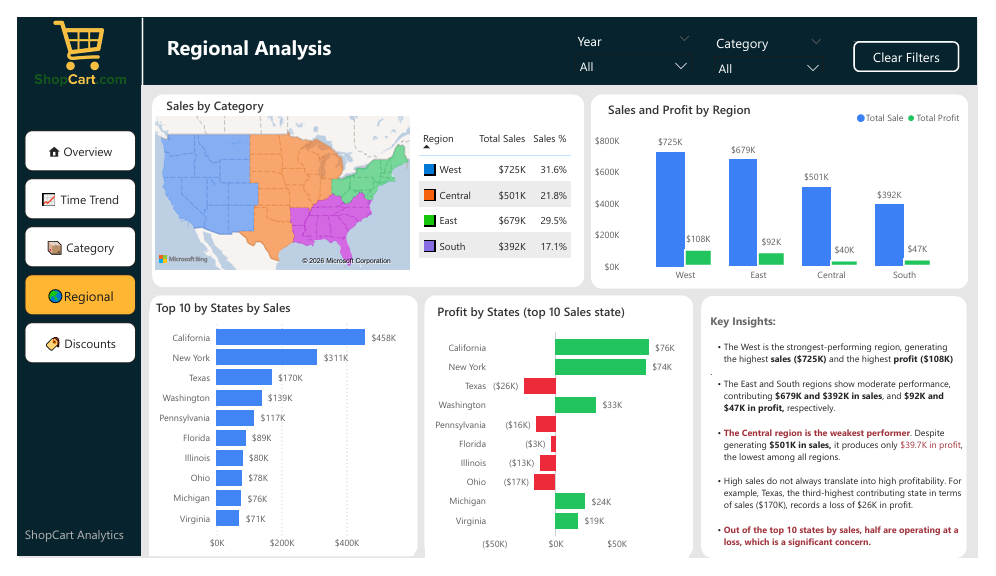

This screenshot's page, from the dashboard's own definition file:
{"tool":"powerbi","page":{"name":"🌏Regional","canvas":[1280,720],"ordinal":3},"visuals":[{"type":"shape","box":[1.5,1.5,1278.5,718.5],"z":0},{"type":"shape","box":[0,0,165.2,718.2],"z":1000},{"type":"shape","box":[143.3,0,1135.8,90],"z":2000},{"type":"image","box":[1.5,0,163.6,97],"z":3000},{"type":"textbox","box":[166,16.2,283.6,60.2],"z":4000},{"type":"shape","box":[178.8,101.5,575.8,257.6],"z":5000},{"type":"shape","box":[763.6,101.5,503,259.1],"z":6000},{"type":"filledMap","fields":{"Category":["shopcart.State"],"Series":["shopcart.Region"]},"box":[178.8,127.3,350,213.6],"z":7000},{"type":"tableEx","fields":{"Values":["shopcart.Region Label","shopcart.Total Sale","shopcart.Sales % reg"]},"box":[528.8,137.9,219.7,203],"z":8000},{"type":"clusteredColumnChart","fields":{"Category":["shopcart.Region"],"Y":["shopcart.Total Sale","shopcart.Total Profit"]},"box":[763.6,113.6,501.5,247],"z":9000},{"type":"shape","box":[175.8,369.7,357.6,348.5],"z":10000},{"type":"clusteredBarChart","fields":{"Category":["shopcart.State"],"Y":["shopcart.Total Sale"]},"box":[175.8,392.4,353,325.8],"z":11000},{"type":"shape","box":[542.4,369.7,357.6,350],"z":12000},{"type":"clusteredBarChart","fields":{"Category":["shopcart.State"],"Y":["shopcart.Total Profit"]},"box":[543.7,405.6,351.2,314.4],"z":13000},{"type":"shape","box":[910.6,371.2,354.5,348.5],"z":14000},{"type":"pageNavigator","box":[8.8,149.9,148.4,314.4],"z":15000},{"type":"slicer","fields":{"Values":["shopcart.Order Date.Variation.Date Hierarchy.Year"]},"box":[733.2,13.2,174.9,60.2],"z":16000},{"type":"slicer","fields":{"Values":["shopcart.Category"]},"box":[918.4,16.2,166,60.2],"z":17000},{"type":"shape","box":[135.2,0,61.7,89.6],"z":18000},{"type":"textbox","box":[4.4,673,154.3,45.6],"z":19000},{"type":"actionButton","box":[1113.8,30.9,141.1,41.1],"z":20000},{"type":"textbox","box":[183.6,101.5,244.8,35.8],"z":21000},{"type":"textbox","box":[772.9,105.8,243.9,35.3],"z":22000},{"type":"textbox","box":[179.3,370.3,243.9,35.3],"z":23000},{"type":"textbox","box":[554,374.7,280.7,30.9],"z":24000},{"type":"textbox","box":[918.4,387.9,346.8,330.6],"z":25000}]}

Visuals, with their boxes in screenshot pixels (x1, y1, x2, y2), scaled from the page's 1280x720 canvas onto the 996x576 screenshot:
shape: [left=1, top=1, right=995, bottom=575]
shape: [left=0, top=0, right=129, bottom=575]
shape: [left=112, top=0, right=995, bottom=72]
image: [left=1, top=0, right=128, bottom=78]
textbox: [left=129, top=13, right=350, bottom=61]
shape: [left=139, top=81, right=587, bottom=287]
shape: [left=594, top=81, right=986, bottom=288]
filledMap - shopcart.State x shopcart.Region: [left=139, top=102, right=411, bottom=273]
tableEx - shopcart.Region Label x shopcart.Total Sale: [left=411, top=110, right=582, bottom=273]
clusteredColumnChart - shopcart.Region x shopcart.Total Sale: [left=594, top=91, right=984, bottom=288]
shape: [left=137, top=296, right=415, bottom=575]
clusteredBarChart - shopcart.State x shopcart.Total Sale: [left=137, top=314, right=411, bottom=575]
shape: [left=422, top=296, right=700, bottom=575]
clusteredBarChart - shopcart.State x shopcart.Total Profit: [left=423, top=324, right=696, bottom=575]
shape: [left=709, top=297, right=984, bottom=575]
pageNavigator: [left=7, top=120, right=122, bottom=371]
slicer - shopcart.Order Date.Variation.Date Hierarchy.Year: [left=571, top=11, right=707, bottom=59]
slicer - shopcart.Category: [left=715, top=13, right=844, bottom=61]
shape: [left=105, top=0, right=153, bottom=72]
textbox: [left=3, top=538, right=123, bottom=575]
actionButton: [left=867, top=25, right=976, bottom=58]
textbox: [left=143, top=81, right=333, bottom=110]
textbox: [left=601, top=85, right=791, bottom=113]
textbox: [left=140, top=296, right=329, bottom=324]
textbox: [left=431, top=300, right=650, bottom=324]
textbox: [left=715, top=310, right=984, bottom=575]
